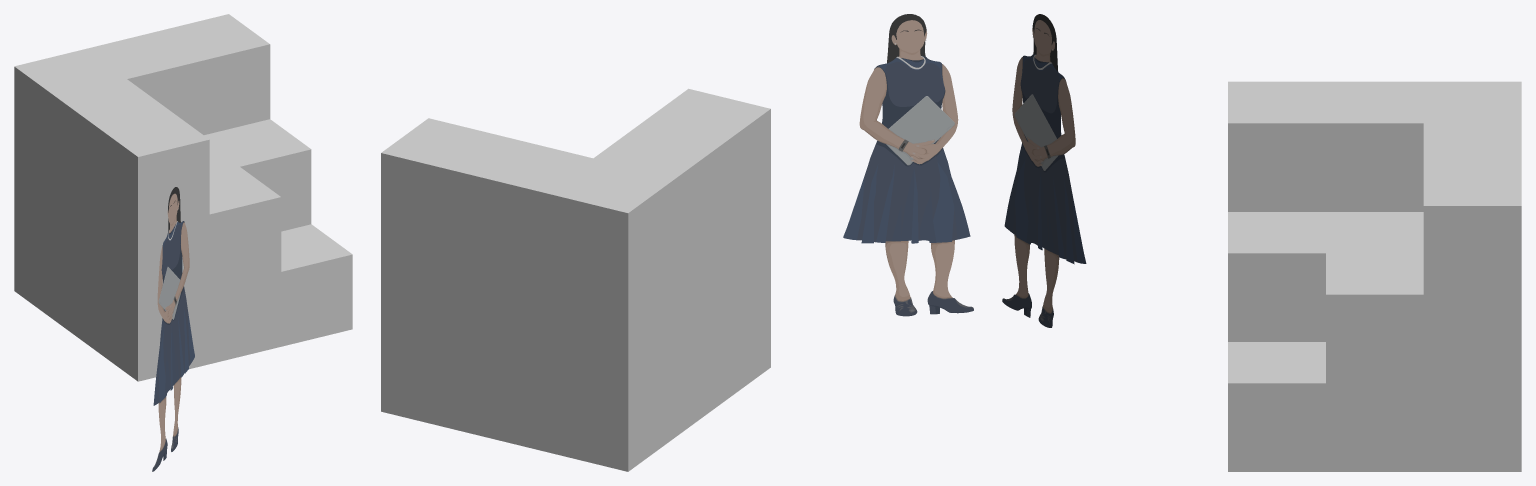
3 renders of one model, left to right at view 1: azimuth 30°, elevation 25°; view 2: azimuth 150°, elevation 25°; view 3: azimuth 270°, elevation 25°, orthographic. The views are drawn at different scales.
Parts seen in each view (by area): view 1: Geom3D (×7); view 2: Geom3D (×10); view 3: Geom3D (×8).
Boxes of the visible parts, <box> form: Geom3D (×7): <box>14,14,352,451</box>; Geom3D (×10): <box>381,14,973,471</box>; Geom3D (×8): <box>1004,20,1521,471</box>.
Size of the model in its own units: 0.2066 by 0.1753 by 0.2654.
